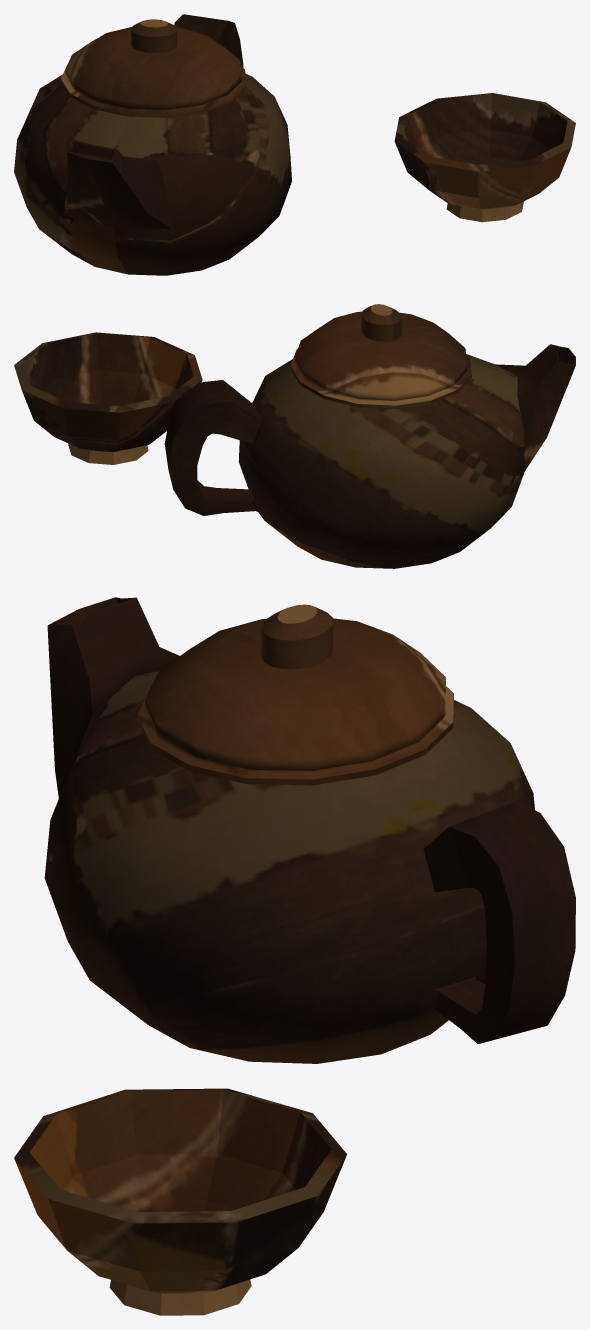
Rendered from Tea_Cup.fbx.
3 renders of one model, top to bottom at view 1: azimuth 30°, elevation 25°; view 2: azimuth 150°, elevation 25°; view 3: azimuth 270°, elevation 25°, orthographic. The views are drawn at different scales.
Parts seen in each view (by area): view 1: pasted__TeaPot, pasted__TeaCup2; view 2: pasted__TeaPot, pasted__TeaCup2; view 3: pasted__TeaPot, pasted__TeaCup2.
Part boxes in pixels (left/top/right/bottom): pasted__TeaPot: left=14, top=14, right=291, bottom=275; pasted__TeaCup2: left=394, top=93, right=575, bottom=222; pasted__TeaPot: left=164, top=304, right=575, bottom=568; pasted__TeaCup2: left=14, top=332, right=202, bottom=464; pasted__TeaPot: left=44, top=597, right=575, bottom=1063; pasted__TeaCup2: left=14, top=1088, right=346, bottom=1315.
Bounding box in the file's own units: 6.67 × 2.87 × 3.54.
